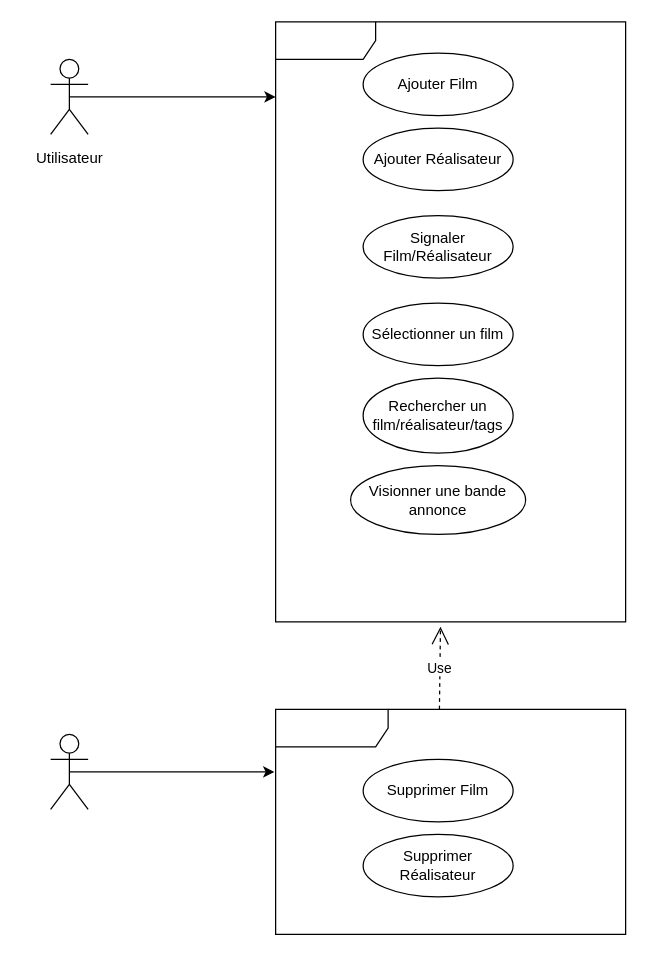
The diagram is 648 pixels wide and 956 high, and some of its shapes have lost their labels. Here are the shapes that lost their labels. From the top down, the box of each, then its label:
(274, 21, 626, 622): Application
(49, 733, 88, 809): Administrateur
(274, 708, 626, 934): Admin Panel
